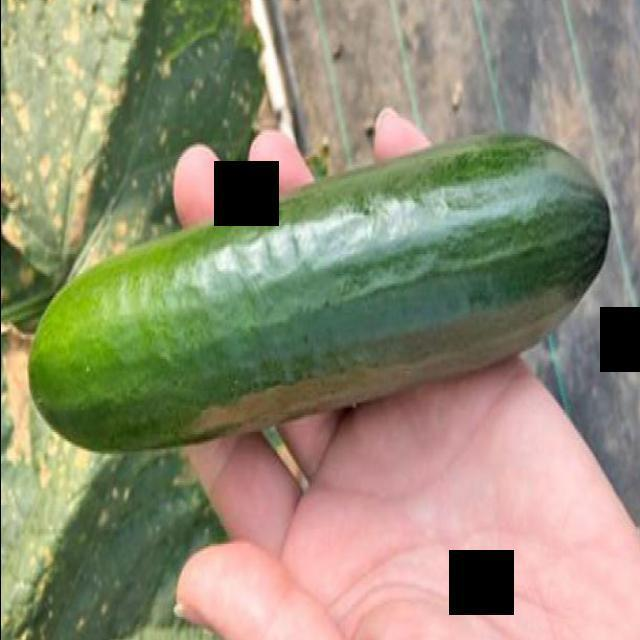cucumber: (24, 125, 612, 459)
